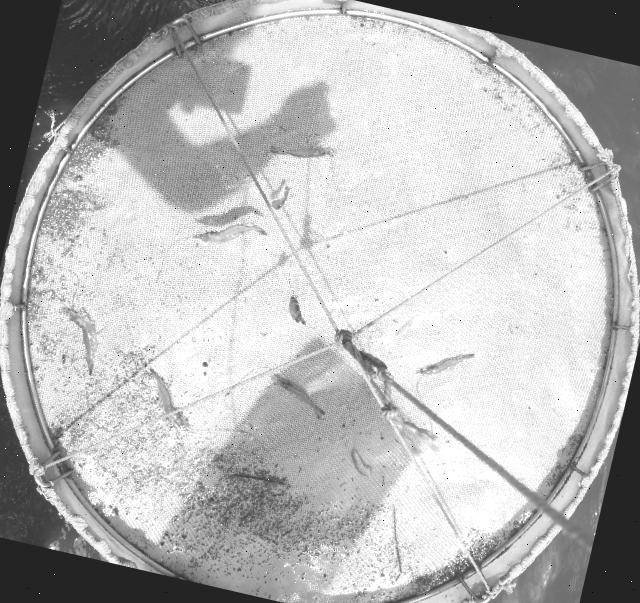shrimp: (149, 367, 190, 430), (269, 375, 325, 420), (62, 308, 96, 375), (190, 223, 267, 244), (415, 354, 475, 375), (269, 146, 340, 158), (271, 186, 290, 210)
